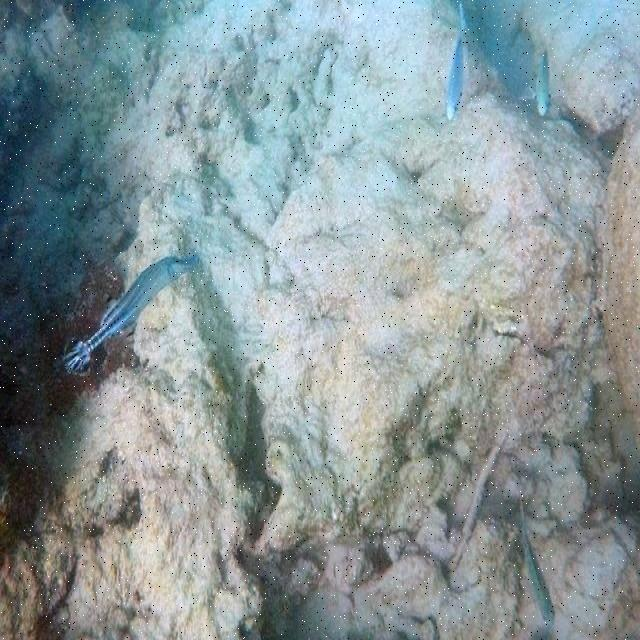fish: (64, 252, 201, 375), (518, 484, 555, 624), (447, 6, 464, 124), (534, 46, 551, 116)
